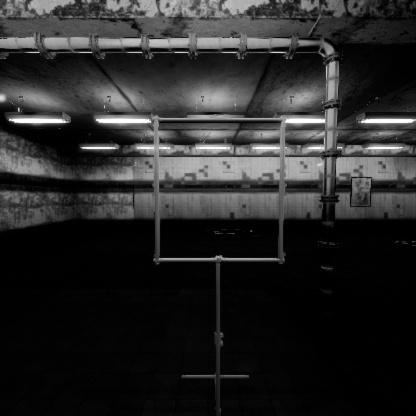gate: (154, 152, 297, 299)
